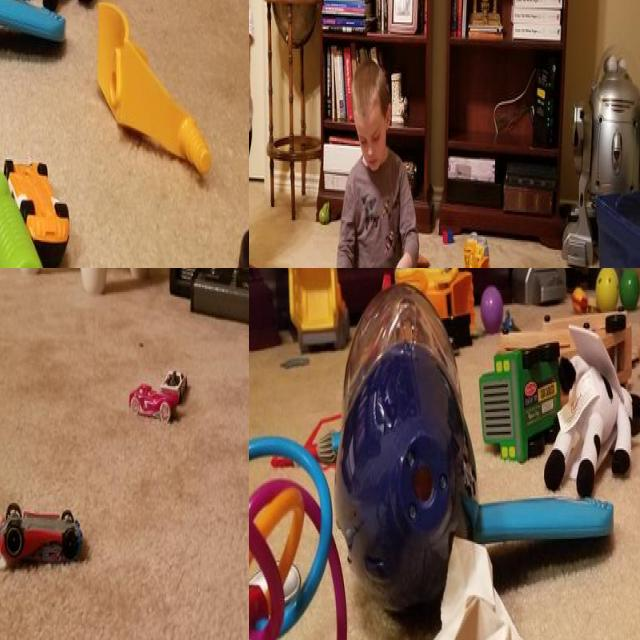toy: (345, 287, 481, 619), (249, 427, 360, 640), (92, 0, 210, 179), (476, 308, 568, 461), (550, 336, 640, 489), (3, 148, 75, 266), (469, 488, 626, 542), (388, 268, 478, 342), (0, 497, 82, 572), (0, 139, 47, 268), (283, 268, 351, 348), (265, 412, 346, 472), (569, 313, 632, 390), (0, 0, 70, 50), (127, 376, 176, 428), (159, 359, 190, 407), (480, 286, 503, 338), (462, 233, 495, 268), (595, 268, 617, 313), (618, 268, 640, 308), (569, 282, 591, 314), (235, 220, 249, 268), (504, 302, 524, 334), (436, 223, 456, 250)
